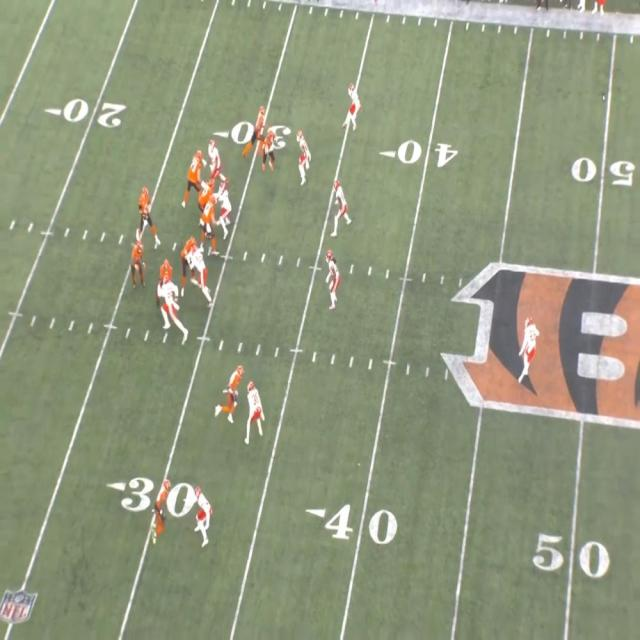db: (520, 321, 543, 385), (246, 381, 267, 439), (194, 493, 216, 546), (298, 134, 311, 183), (348, 86, 360, 130)
lb: (164, 280, 182, 330), (322, 253, 338, 306), (335, 184, 352, 228)
qb: (138, 188, 152, 230)
skill: (148, 478, 171, 544), (222, 368, 245, 422), (260, 130, 278, 175), (130, 241, 146, 286), (255, 106, 265, 156)
